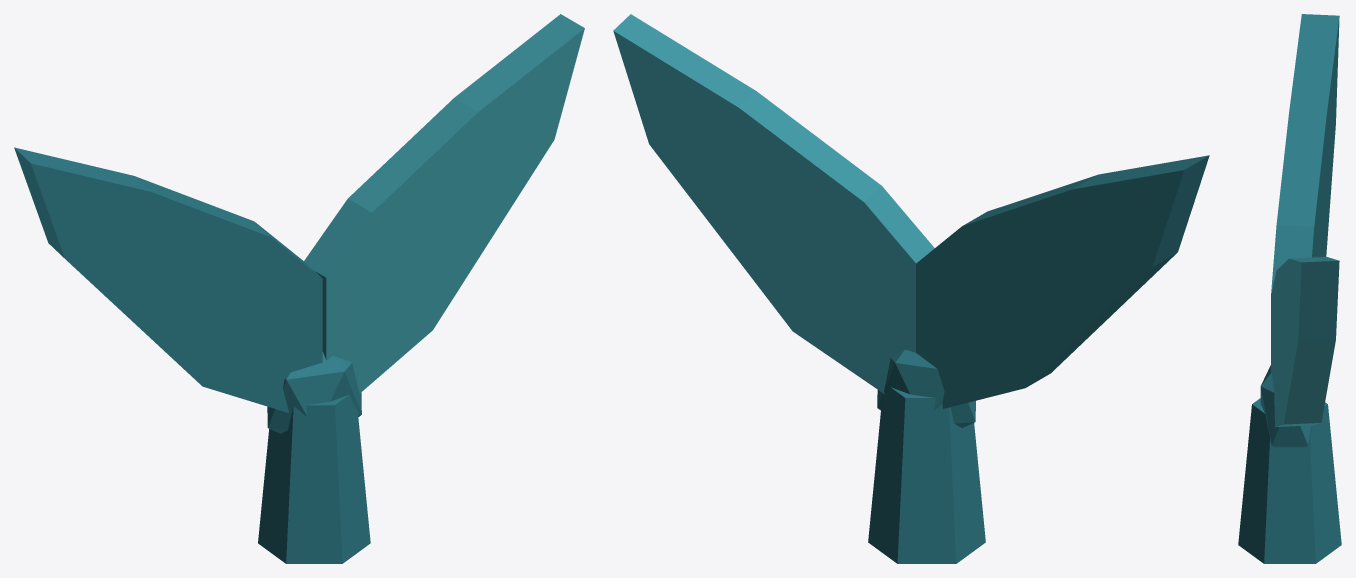
File: fish_tail.glb
The picture shows the model from 3 angles, left to right: view 1: azimuth 30°, elevation 25°; view 2: azimuth 150°, elevation 25°; view 3: azimuth 270°, elevation 25°; orthographic projection. The views are drawn at different scales.
Visible parts, largest first — view 1: fish_tail; view 2: fish_tail; view 3: fish_tail.
Part boxes in pixels (x1,y1,x2,y2): fish_tail: [14, 14, 584, 563]; fish_tail: [613, 14, 1209, 563]; fish_tail: [1238, 14, 1341, 563].
Size of the model in its own units: 0.3404 by 0.26 by 0.06.
